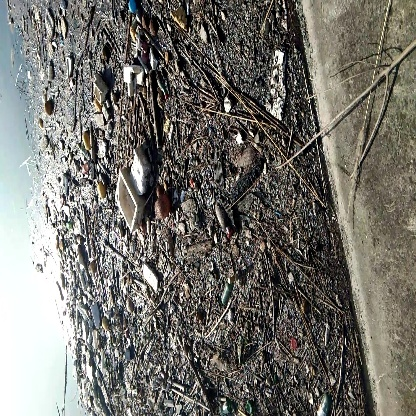branch: (311, 41, 416, 174)
